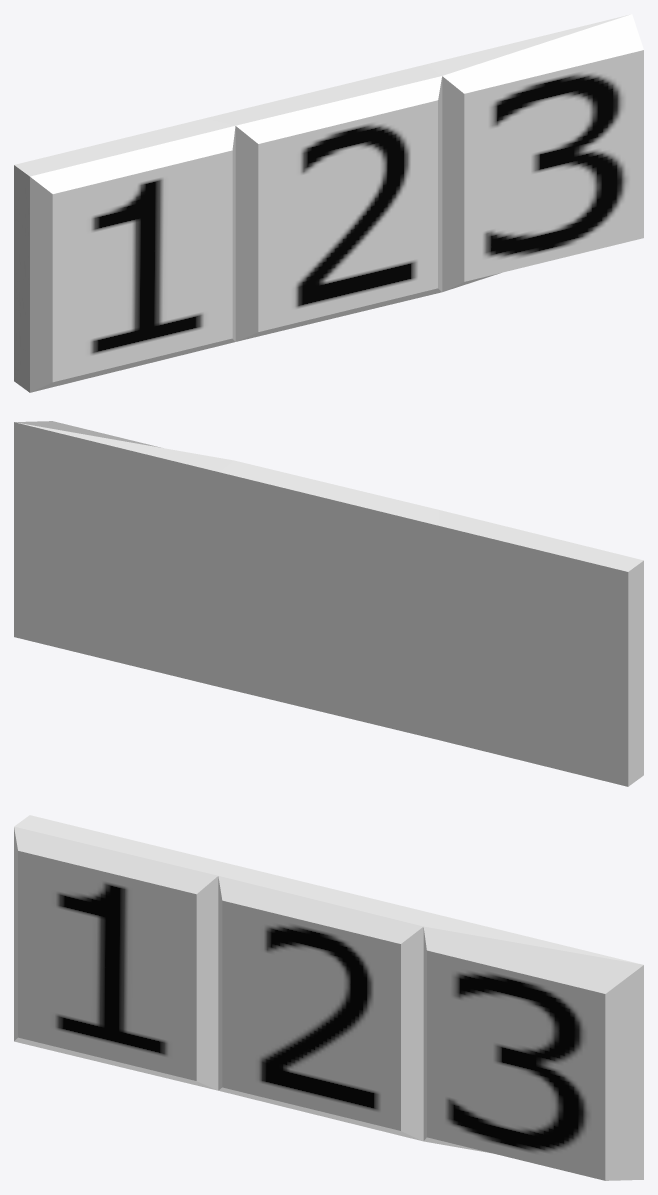
3 renders of one model, top to bottom at view 1: azimuth 30°, elevation 25°; view 2: azimuth 150°, elevation 25°; view 3: azimuth 330°, elevation 25°, orthographic.
Parts seen in each view (by area): view 1: polySurface33; view 2: polySurface33; view 3: polySurface33.
Part boxes in pixels (x1,y1,x2,y2): polySurface33: [14, 14, 643, 392]; polySurface33: [14, 421, 643, 786]; polySurface33: [14, 815, 643, 1180].
Bounding box in the file's own units: 0.624 × 0.2093 × 0.0443.
Materials: 1 (1 with a texture image).
